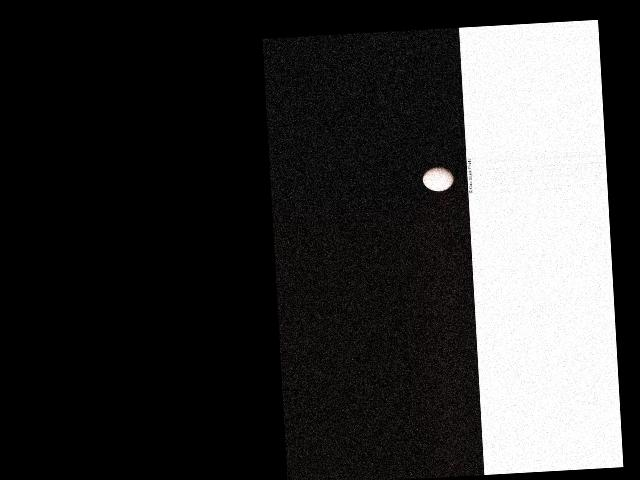egg: (422, 165, 455, 191)
